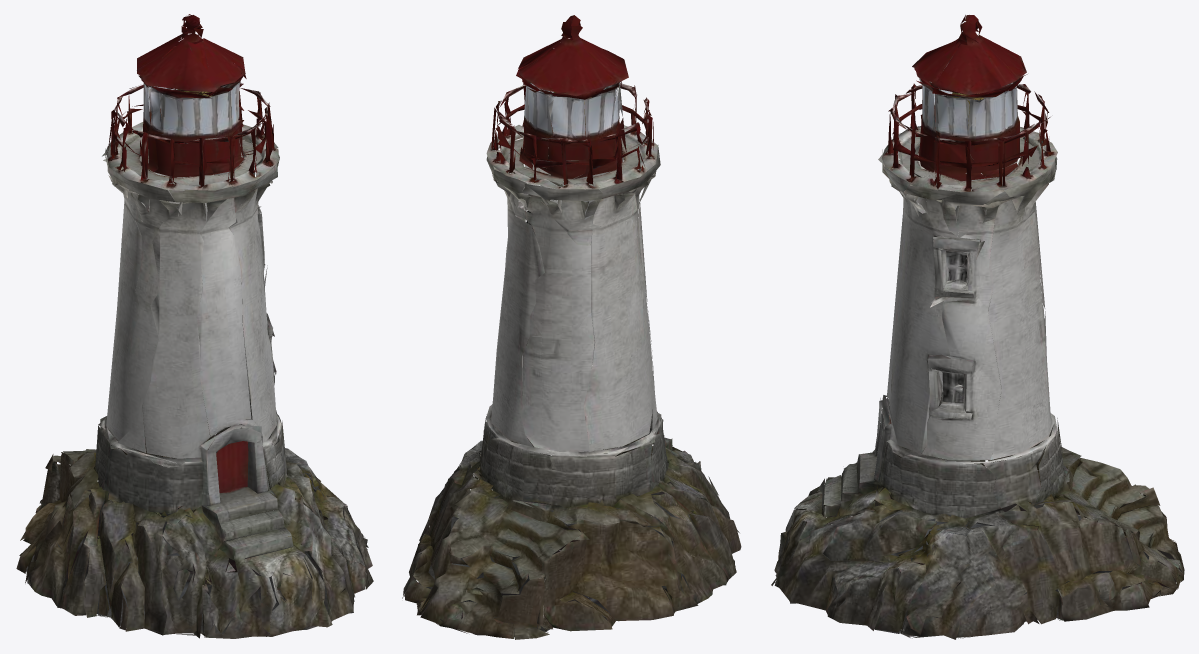
Rendered from serra_leuchtturm.glb.
The picture shows the model from 3 angles, left to right: view 1: azimuth 30°, elevation 25°; view 2: azimuth 150°, elevation 25°; view 3: azimuth 270°, elevation 25°; orthographic projection. The views are drawn at different scales.
Visible parts, largest first — view 1: Prop; view 2: Prop; view 3: Prop.
Boxes of the visible parts, <box> form: Prop: <box>16,14,373,638</box>; Prop: <box>402,15,741,639</box>; Prop: <box>771,15,1184,639</box>.
Bounding box in the file's own units: 0.5699 × 1.01 × 0.6792.
1 material, 1 textured.
